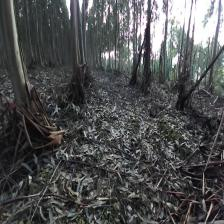trunk: (0, 0, 31, 111), (70, 4, 82, 79)
